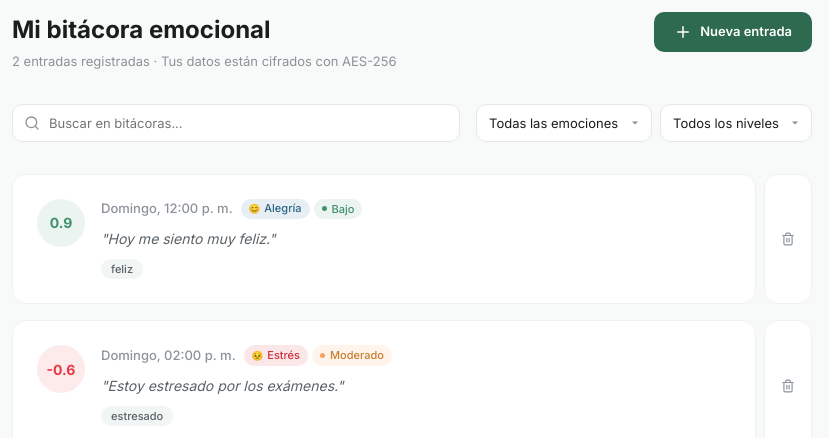
Test: JournalPage Component › allows searching within entries
Expected: the text "\"Hoy me siento muy feliz.\"" is shown, left=101, top=230, right=275, bottom=247
Expected: the text "\"Estoy estresado por los exámenes.\"" is shown, left=101, top=377, right=344, bottom=394
Search for "estresado"
Step 1. Type "estresado" into the field named "Buscar entradas de bitácora" → (236, 122), box left=12, top=104, right=460, bottom=142
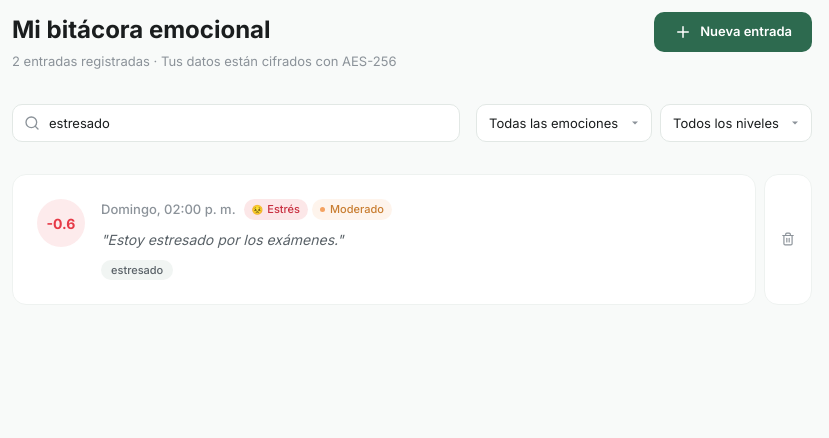
Expected: the text "\"Estoy estresado por los exámenes.\"" is shown, left=101, top=230, right=344, bottom=247
Result: the button "Hoy me siento muy feliz" is gone
